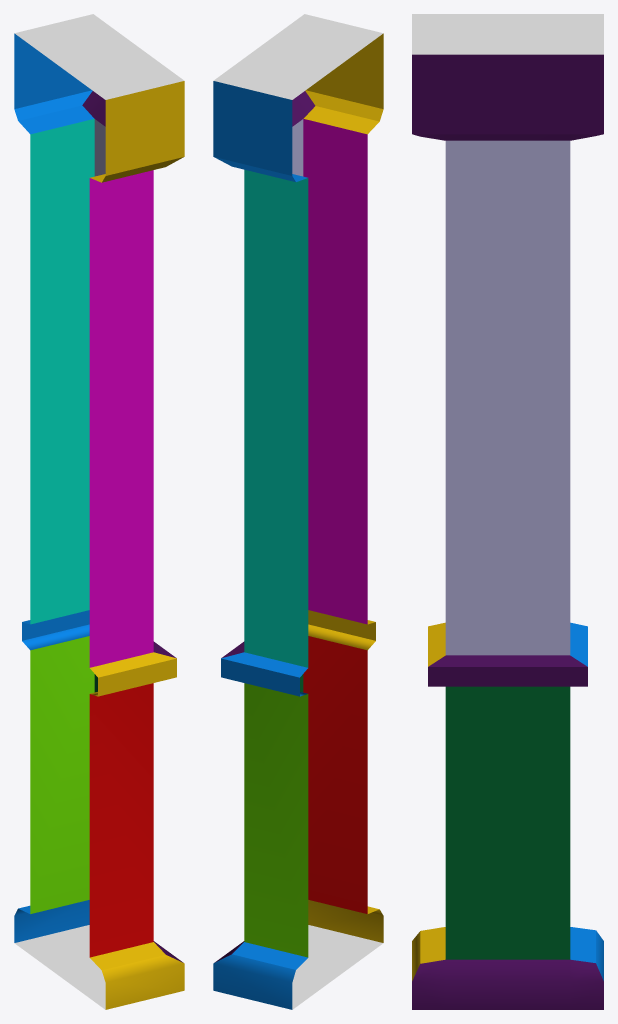
Rendered from Wall_end.fbx.
The picture shows the model from 3 angles, left to right: view 1: azimuth 30°, elevation 25°; view 2: azimuth 150°, elevation 25°; view 3: azimuth 270°, elevation 25°; orthographic projection. The views are drawn at different scales.
Visible parts, largest first — view 1: wall_1m_end; view 2: wall_1m_end; view 3: wall_1m_end.
Boxes of the visible parts, bbox=[...] form: wall_1m_end: bbox=[14, 14, 184, 1009]; wall_1m_end: bbox=[213, 14, 383, 1009]; wall_1m_end: bbox=[412, 14, 603, 1009].
Bounding box in the file's own units: 25 × 275 × 50.
